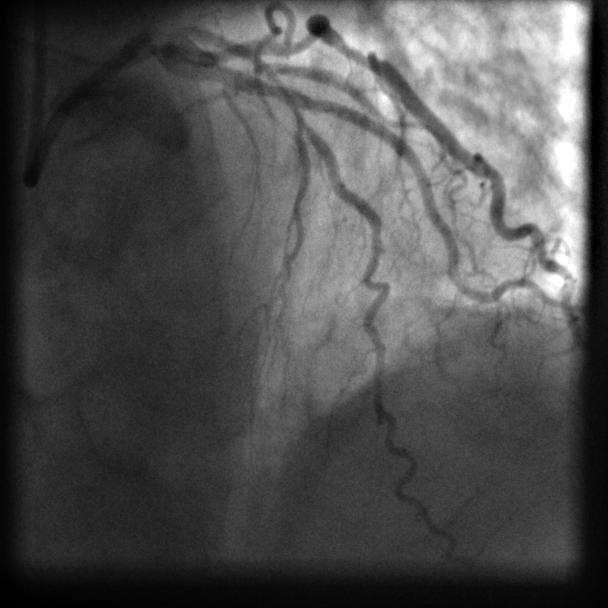Stenosis: (265, 60, 297, 113)
